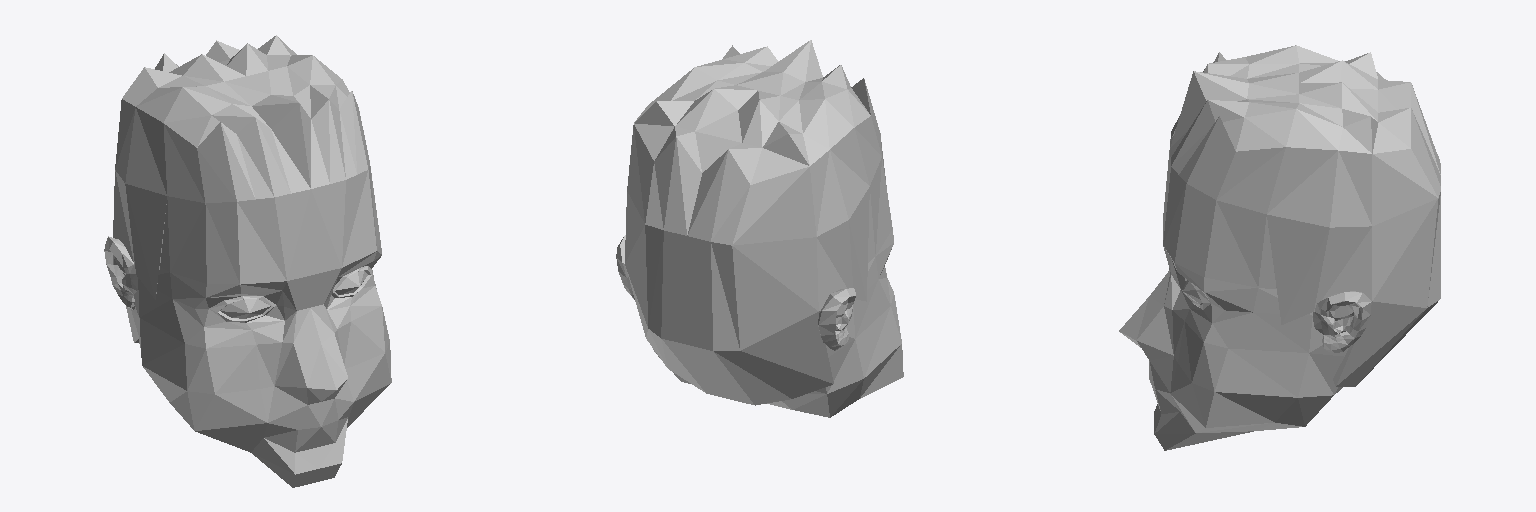
Rendered from Manfred_closed.obj.
The picture shows the model from 3 angles: view 1: azimuth 30°, elevation 25°; view 2: azimuth 150°, elevation 25°; view 3: azimuth 270°, elevation 25°; orthographic projection.
Visible parts, largest first — view 1: Face_Cube, Hair_Cube.002; view 2: Hair_Cube.002, Face_Cube; view 3: Hair_Cube.002, Face_Cube.
Part boxes in pixels (x1,y1,x2,y2): Face_Cube: (104, 166, 391, 487); Hair_Cube.002: (113, 35, 369, 342); Hair_Cube.002: (625, 40, 881, 405); Face_Cube: (616, 142, 903, 417); Hair_Cube.002: (1170, 45, 1440, 386); Face_Cube: (1119, 139, 1371, 450).
Bounding box in the file's own units: 4.68 × 7.22 × 5.71.